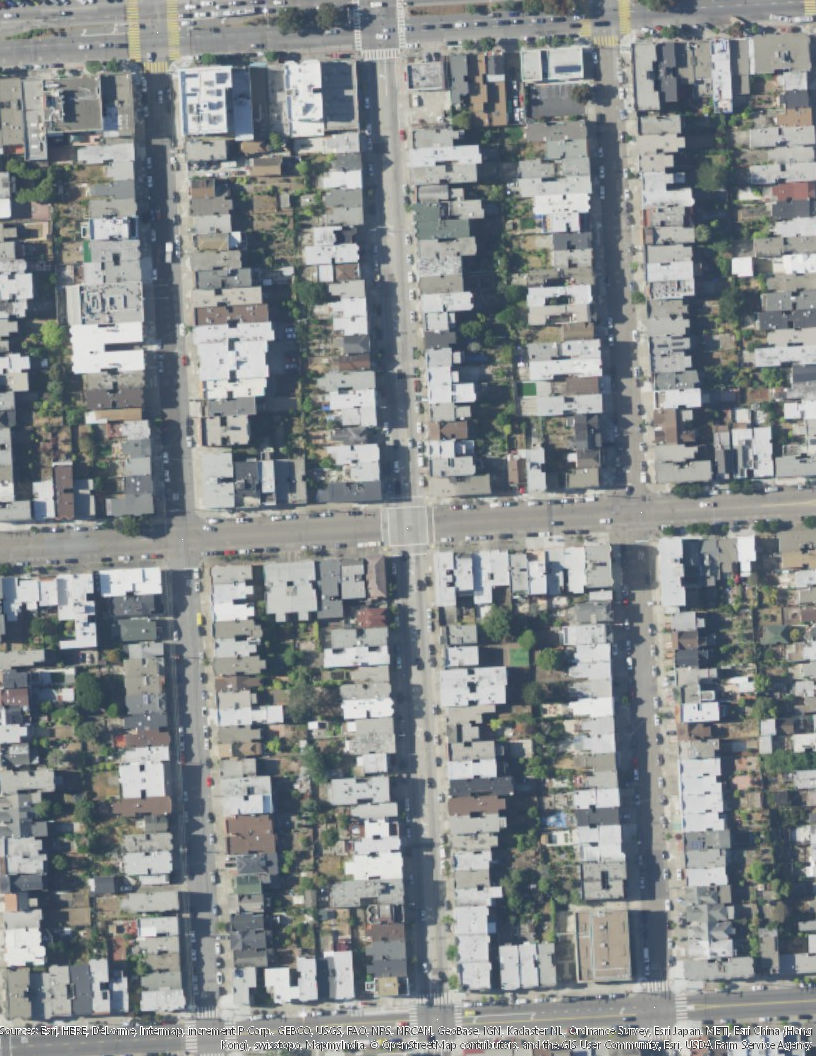zebracross: (123, 1, 143, 63), (166, 1, 182, 62), (416, 991, 452, 1006), (352, 1, 363, 49), (361, 49, 399, 61), (224, 1021, 237, 1052), (397, 2, 406, 45), (186, 1021, 198, 1053), (676, 991, 688, 1023), (620, 1, 631, 34), (645, 979, 669, 993), (142, 62, 168, 74), (595, 37, 621, 49), (581, 17, 593, 38), (198, 1006, 220, 1017), (453, 1005, 464, 1027), (409, 1007, 419, 1026), (805, 1, 816, 15)
